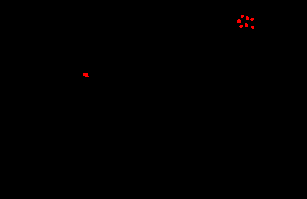Target: (83, 73, 89, 77), (237, 19, 241, 23), (246, 16, 249, 20), (250, 18, 254, 21), (245, 23, 248, 27), (239, 25, 243, 28), (241, 15, 244, 18), (251, 26, 254, 29)
